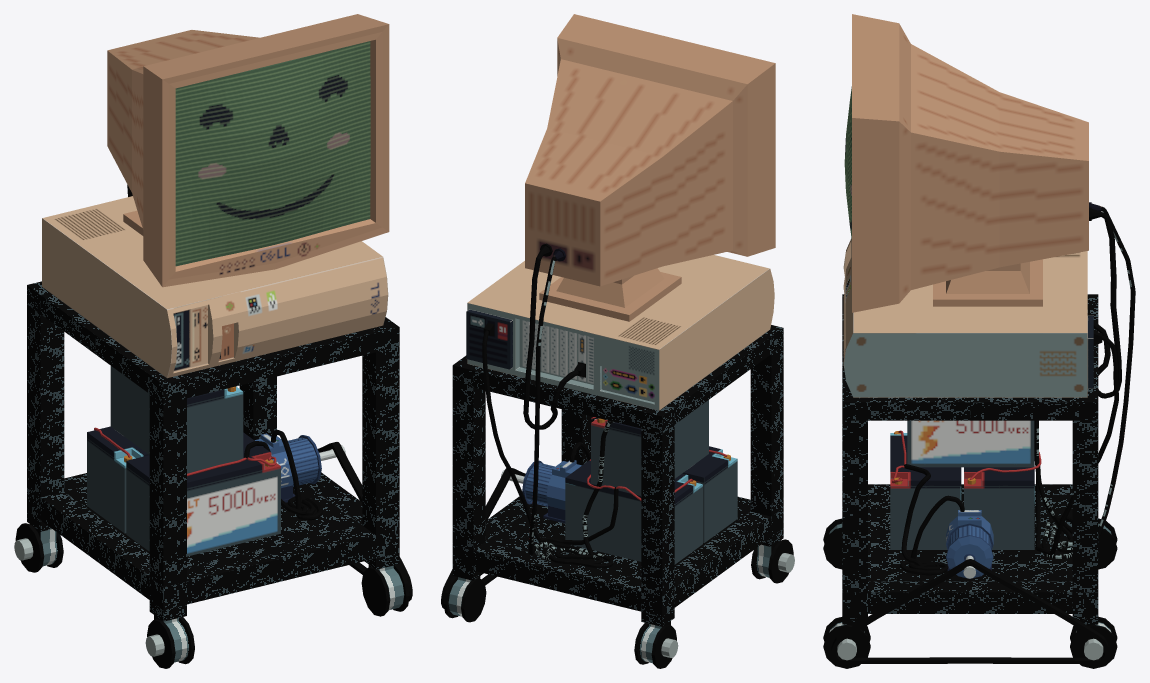
The model's file is computer.obj.
3 renders of one model, left to right at view 1: azimuth 30°, elevation 25°; view 2: azimuth 150°, elevation 25°; view 3: azimuth 270°, elevation 25°, orthographic. The views are drawn at different scales.
Parts seen in each view (by area): view 1: Cart_Cube.001, Screen_Cube.007, Computer_Cube.005, Monitor_Cube, Battery_Cube.002, Battery.002_Cube.002, Casters_Cylinder.002, Battery.001_Cube.002, Motor_Cylinder.001, Cabnle_Plane, Chain_Cube.004; view 2: Monitor_Cube, Cart_Cube.001, Computer_Cube.005, Cabnle_Plane, Battery.001_Cube.002, Battery.002_Cube.002, Casters_Cylinder.002, Battery_Cube.002, Motor_Cylinder.001, Chain_Cube.004; view 3: Monitor_Cube, Cart_Cube.001, Computer_Cube.005, Cabnle_Plane, Battery.002_Cube.002, Battery_Cube.002, Battery.001_Cube.002, Casters_Cylinder.002, Chain_Cube.004, Motor_Cylinder.001, Screen_Cube.007.
Part boxes in pixels (x1=…): Cart_Cube.001: x1=27, y1=281, x2=399, y2=621; Screen_Cube.007: x1=175, y1=41, x2=370, y2=266; Computer_Cube.005: x1=42, y1=196, x2=388, y2=378; Monitor_Cube: x1=107, y1=14, x2=389, y2=287; Battery_Cube.002: x1=126, y1=432, x2=280, y2=556; Battery.002_Cube.002: x1=110, y1=366, x2=243, y2=473; Casters_Cylinder.002: x1=14, y1=523, x2=409, y2=668; Battery.001_Cube.002: x1=87, y1=426, x2=149, y2=533; Motor_Cylinder.001: x1=255, y1=433, x2=345, y2=502; Cabnle_Plane: x1=94, y1=184, x2=322, y2=520; Chain_Cube.004: x1=317, y1=442, x2=412, y2=601; Monitor_Cube: x1=525, y1=14, x2=775, y2=321; Cart_Cube.001: x1=452, y1=325, x2=783, y2=626; Computer_Cube.005: x1=466, y1=255, x2=774, y2=410; Cabnle_Plane: x1=482, y1=243, x2=727, y2=568; Battery.001_Cube.002: x1=565, y1=459, x2=702, y2=564; Battery.002_Cube.002: x1=591, y1=400, x2=708, y2=495; Casters_Cylinder.002: x1=443, y1=539, x2=794, y2=668; Battery_Cube.002: x1=682, y1=446, x2=737, y2=542; Motor_Cylinder.001: x1=501, y1=460, x2=581, y2=523; Chain_Cube.004: x1=441, y1=468, x2=525, y2=608; Monitor_Cube: x1=852, y1=14, x2=1101, y2=312; Cart_Cube.001: x1=842, y1=294, x2=1098, y2=624; Computer_Cube.005: x1=843, y1=238, x2=1093, y2=397; Cabnle_Plane: x1=892, y1=206, x2=1135, y2=575; Battery.002_Cube.002: x1=907, y1=420, x2=1034, y2=467; Battery_Cube.002: x1=890, y1=431, x2=961, y2=549; Battery.001_Cube.002: x1=964, y1=456, x2=1034, y2=549; Casters_Cylinder.002: x1=823, y1=518, x2=1117, y2=668; Chain_Cube.004: x1=831, y1=559, x2=1109, y2=663; Motor_Cylinder.001: x1=946, y1=510, x2=993, y2=578; Screen_Cube.007: x1=844, y1=86, x2=851, y2=240.
Size of the model in its own units: 1.17 by 2.55 by 1.32.
